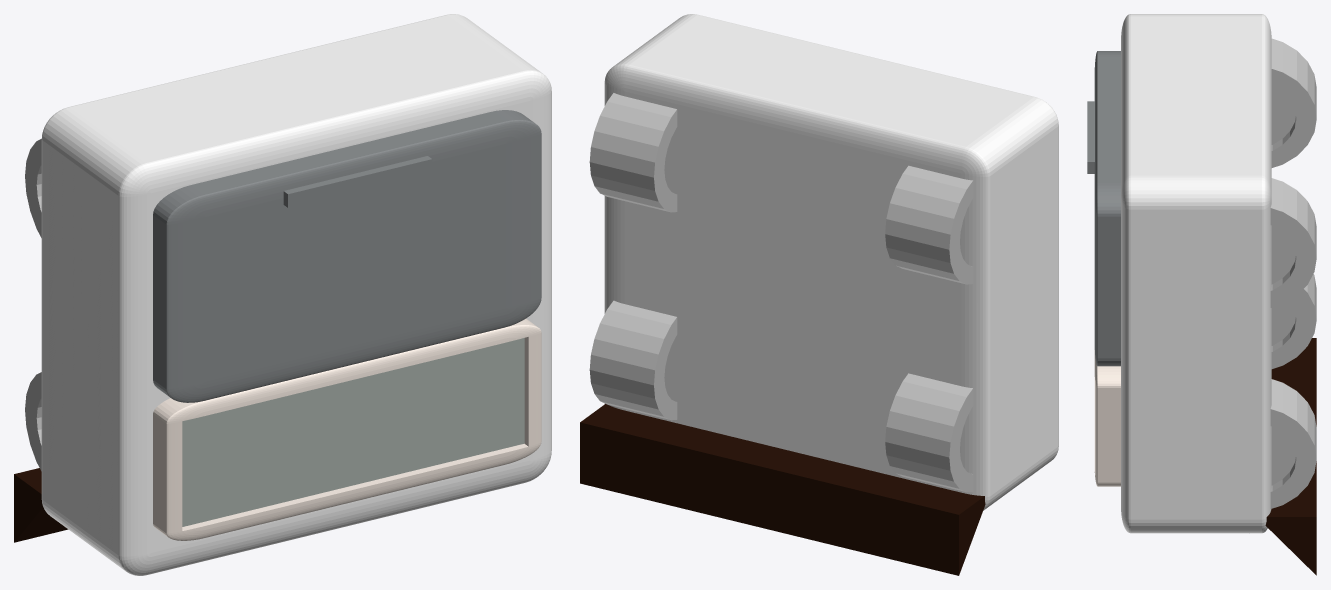
Rendered from robotcleaner.obj.
3 renders of one model, left to right at view 1: azimuth 30°, elevation 25°; view 2: azimuth 150°, elevation 25°; view 3: azimuth 270°, elevation 25°, orthographic. The views are drawn at different scales.
Visible parts, largest first — view 1: group_0_16777215, group_0_9014671, group_0_11252653, group_0_16774379, group_0_0, group_0_2362368; view 2: group_0_16777215, group_0_2362368, group_0_0; view 3: group_0_16777215, group_0_0, group_0_9014671, group_0_2362368, group_0_16774379.
Part boxes in pixels (<box>): group_0_16777215: <box>41,14,551,575</box>; group_0_9014671: <box>153,110,541,402</box>; group_0_11252653: <box>182,338,524,526</box>; group_0_16774379: <box>153,318,541,540</box>; group_0_0: <box>25,139,41,471</box>; group_0_2362368: <box>14,468,68,542</box>; group_0_16777215: <box>604,14,1058,510</box>; group_0_2362368: <box>580,404,985,575</box>; group_0_0: <box>589,93,973,492</box>; group_0_16777215: <box>1121,14,1271,533</box>; group_0_0: <box>1270,38,1316,508</box>; group_0_9014671: <box>1087,51,1120,366</box>; group_0_2362368: <box>1265,338,1316,575</box>; group_0_16774379: <box>1094,350,1120,486</box>.
Size of the model in its own units: 15 by 15 by 8.
